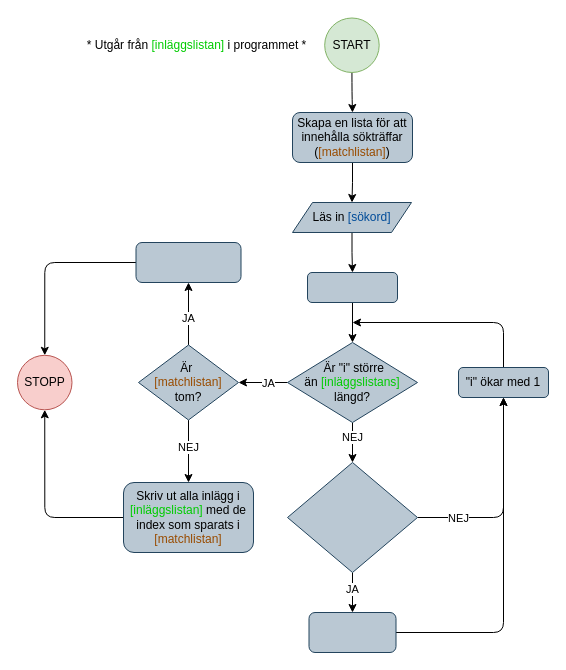
Image size: 566x670. Some labels were removed from this diagram. The centre of each missing label's shape, as x and y in pixels:
"i" får värdet 0: point 352,287
Lägg till "i" i [matchlistan]: point 352,632
Matchar [sökordet] titeln vid index "i" i [inläggslistan] ?: point 352,517
Meddela att inga sökresultat hittats: point 188,262
